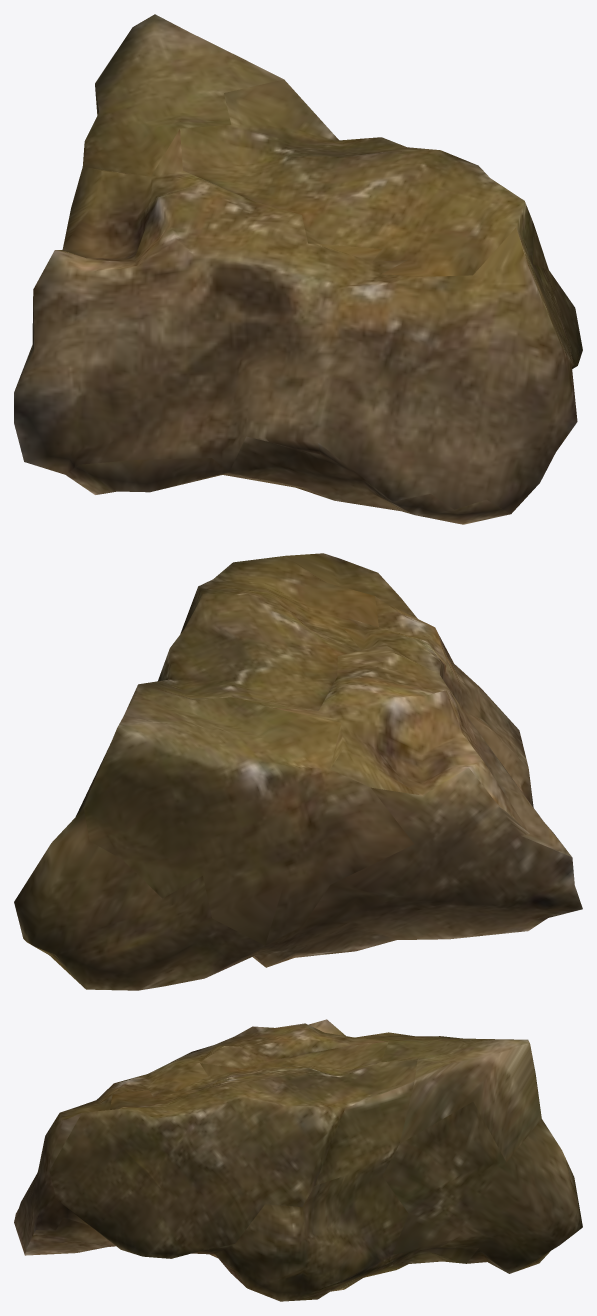
Rendered from mossy_rock_a_6.glb.
The picture shows the model from 3 angles, top to bottom: view 1: azimuth 30°, elevation 25°; view 2: azimuth 150°, elevation 25°; view 3: azimuth 270°, elevation 25°; orthographic projection. The views are drawn at different scales.
Parts seen in each view (by area): view 1: rock_moss_set_01_rock06; view 2: rock_moss_set_01_rock06; view 3: rock_moss_set_01_rock06.
Boxes of the visible parts, bbox=[...] form: rock_moss_set_01_rock06: bbox=[14, 14, 582, 524]; rock_moss_set_01_rock06: bbox=[14, 553, 582, 990]; rock_moss_set_01_rock06: bbox=[14, 1019, 582, 1301].
Size of the model in its own units: 2.12 by 1.25 by 2.76.
1 material, 1 textured.
